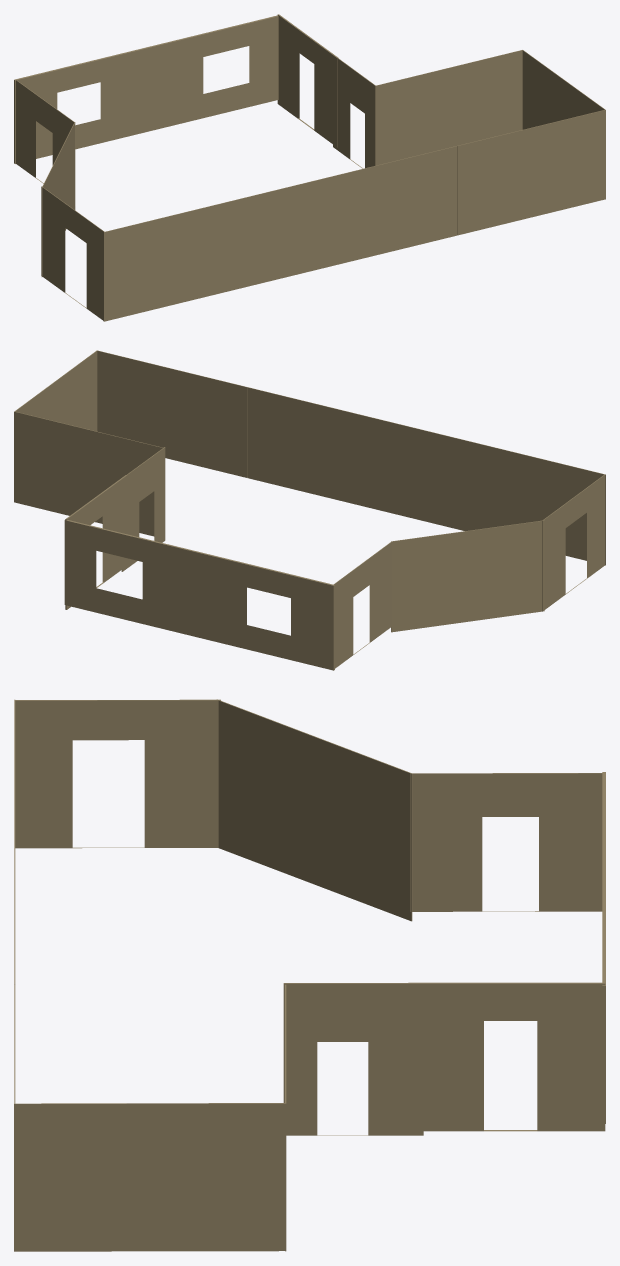
File: pared.obj
3 views of the same model, one above another, from view 1: azimuth 30°, elevation 25°; view 2: azimuth 150°, elevation 25°; view 3: azimuth 270°, elevation 25° (orthographic). The views are drawn at different scales.
Visible parts, largest first — view 1: pCube15; view 2: pCube15; view 3: pCube15.
Part boxes in pixels (x1,y1,x2,y2): pCube15: (14,14,605,321); pCube15: (14,350,605,670); pCube15: (14,699,605,1251).
Size of the model in its own units: 78.1 by 13.7 by 48.24.
1 material, 1 textured.
